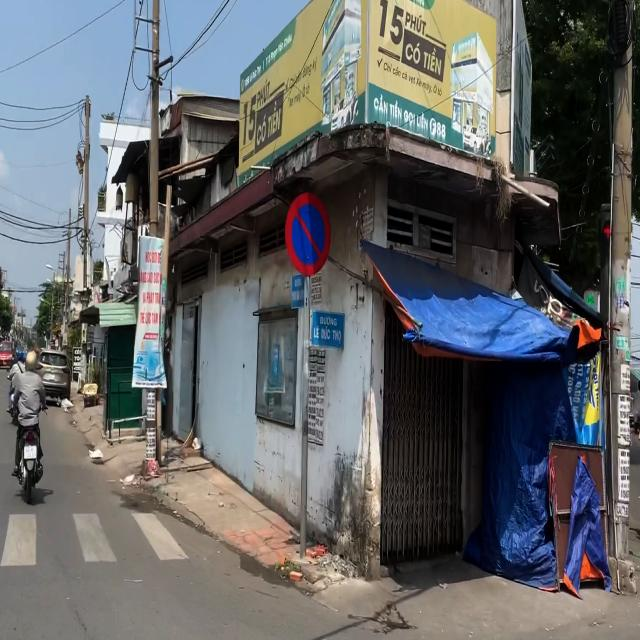Cam do: (284, 191, 335, 277)
